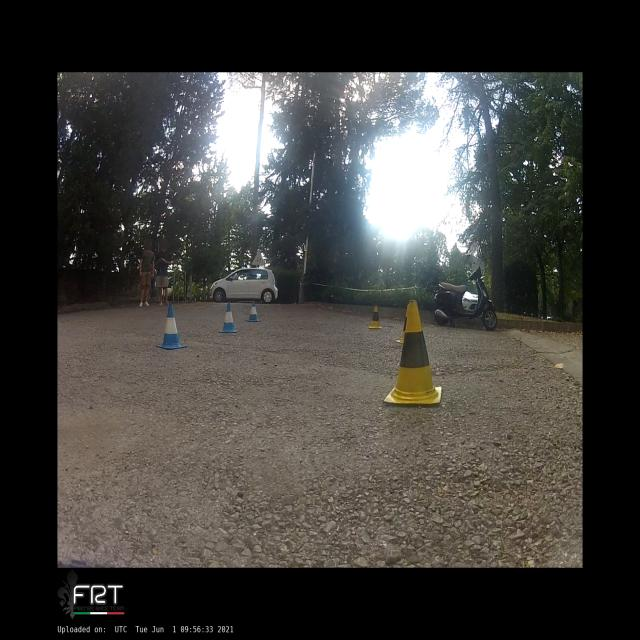blue_cone: (156, 303, 186, 349), (220, 302, 237, 333), (246, 300, 260, 321)
yellow_cone: (384, 300, 441, 404), (395, 304, 408, 344), (368, 305, 382, 329)
